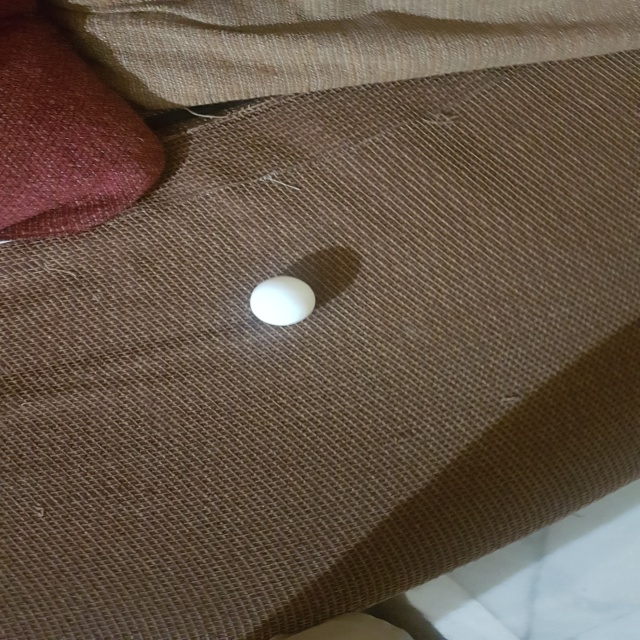eggs: (246, 274, 325, 333)
